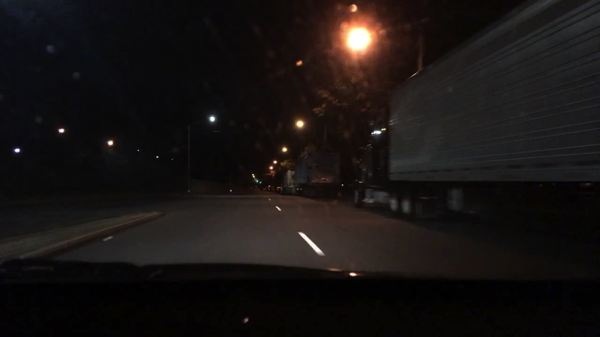car: (267, 185, 276, 193), (274, 186, 282, 192)
truck: (350, 0, 599, 221), (293, 152, 340, 198), (282, 169, 297, 195)
